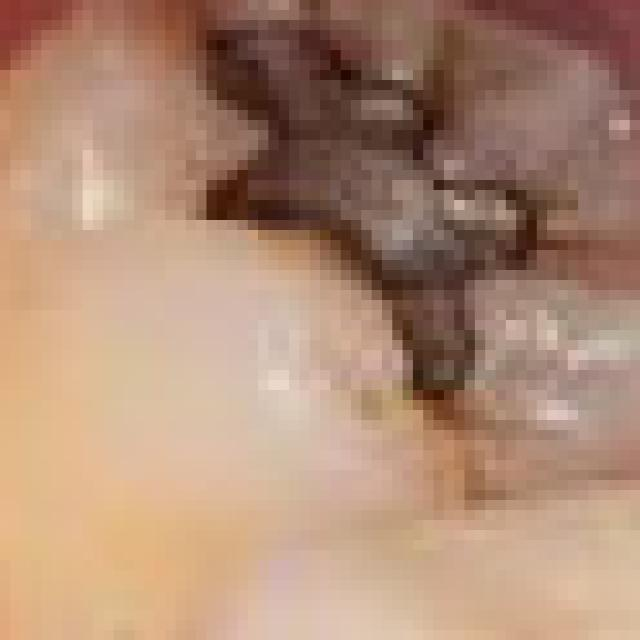Carrier: (173, 10, 570, 430)
